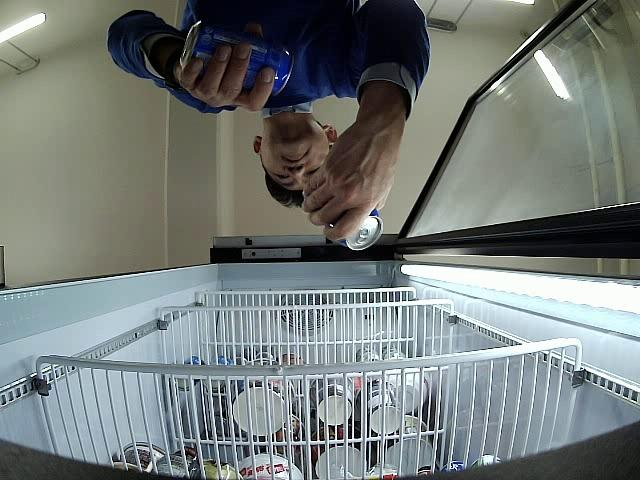00_hand: (304, 111, 406, 241), (176, 27, 274, 112)
13_pocariSweat: (180, 19, 294, 97)
